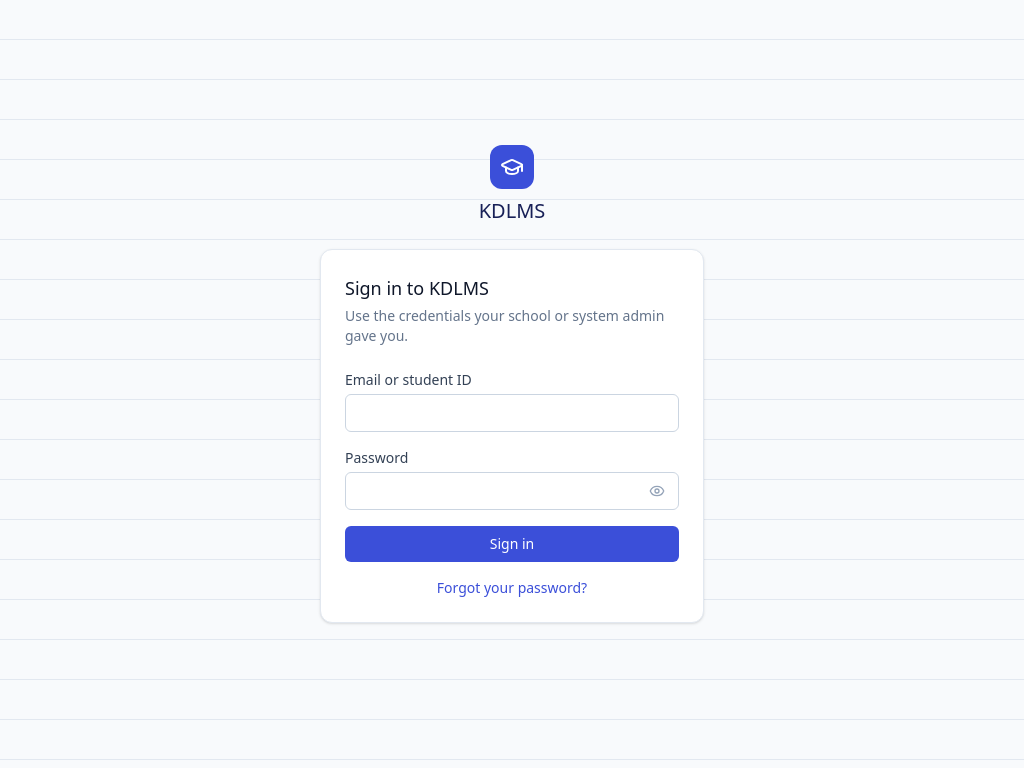
Test: LoginPage › redirects to /set-password instead of the role home when the account still must change a temporary password
Type "new-admin@kdlms.com" into the field labelled "Email or student ID" at (512, 413), box [345,394,679,432]
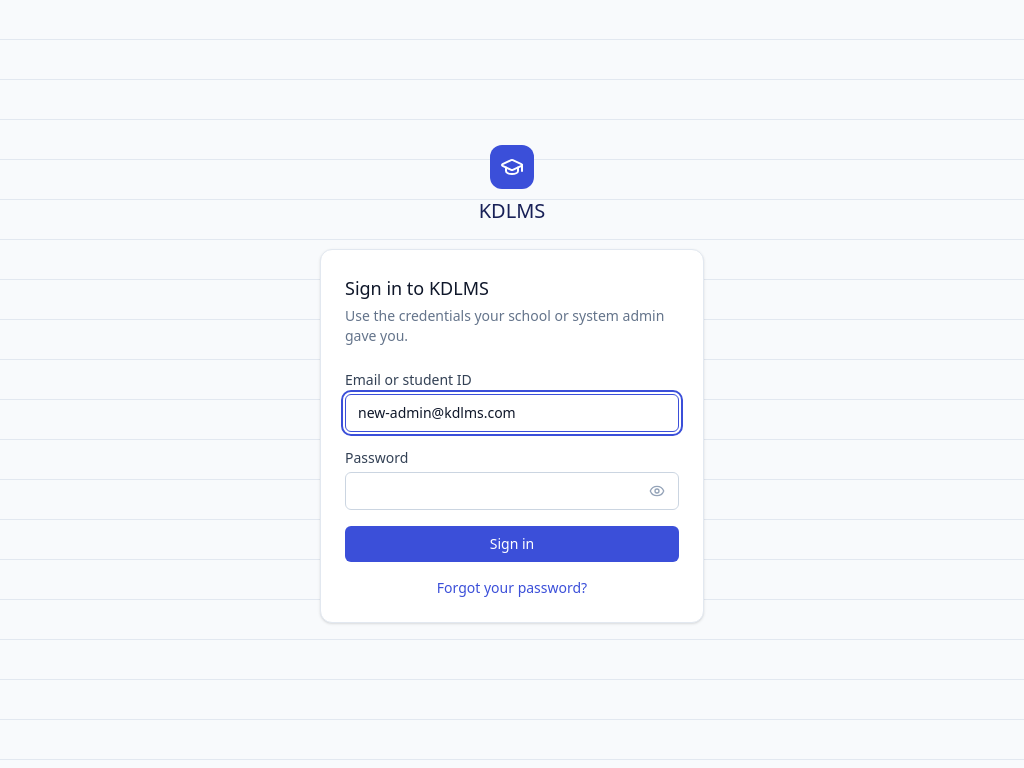
Type "TempPass123" into the password field labelled "Password" at (512, 491), box [345,472,679,510]
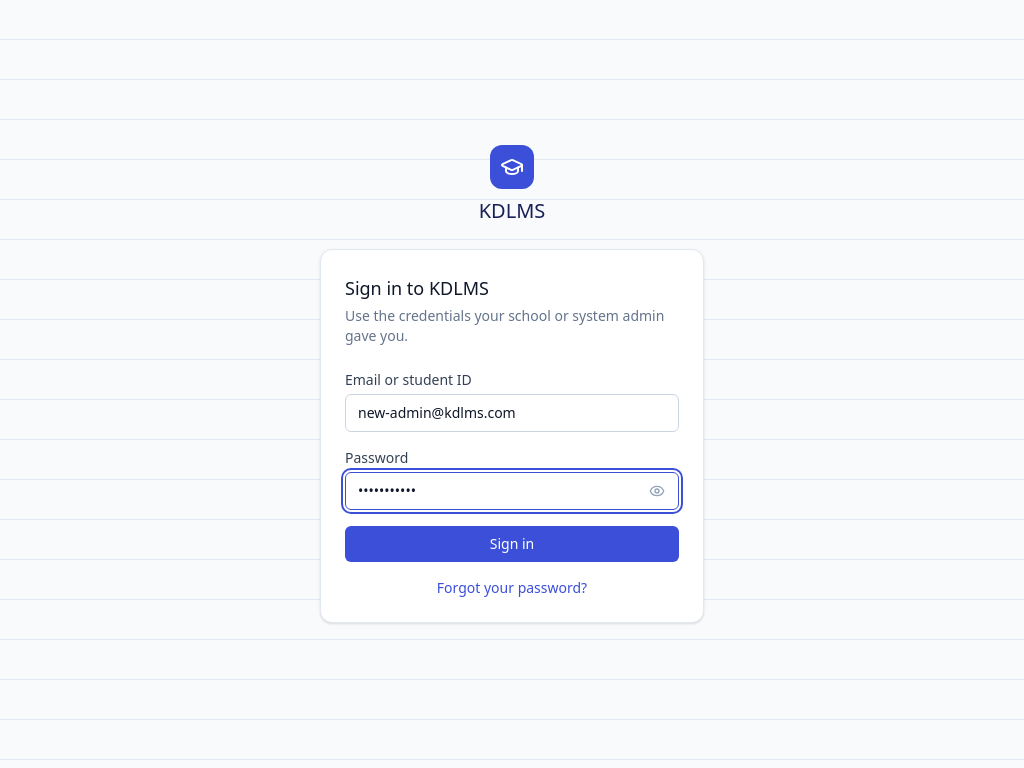
Click the button "Sign in" at (512, 544), box [345,526,679,562]
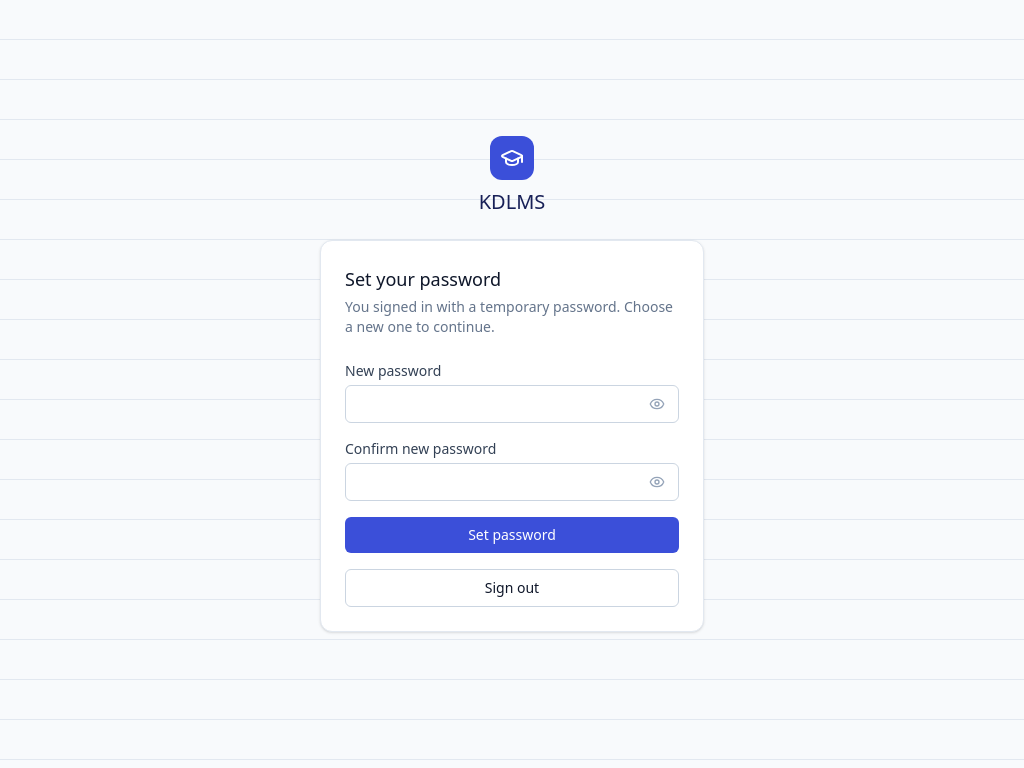
expect the heading "Set your password" is shown: met, box [345,267,501,291]
